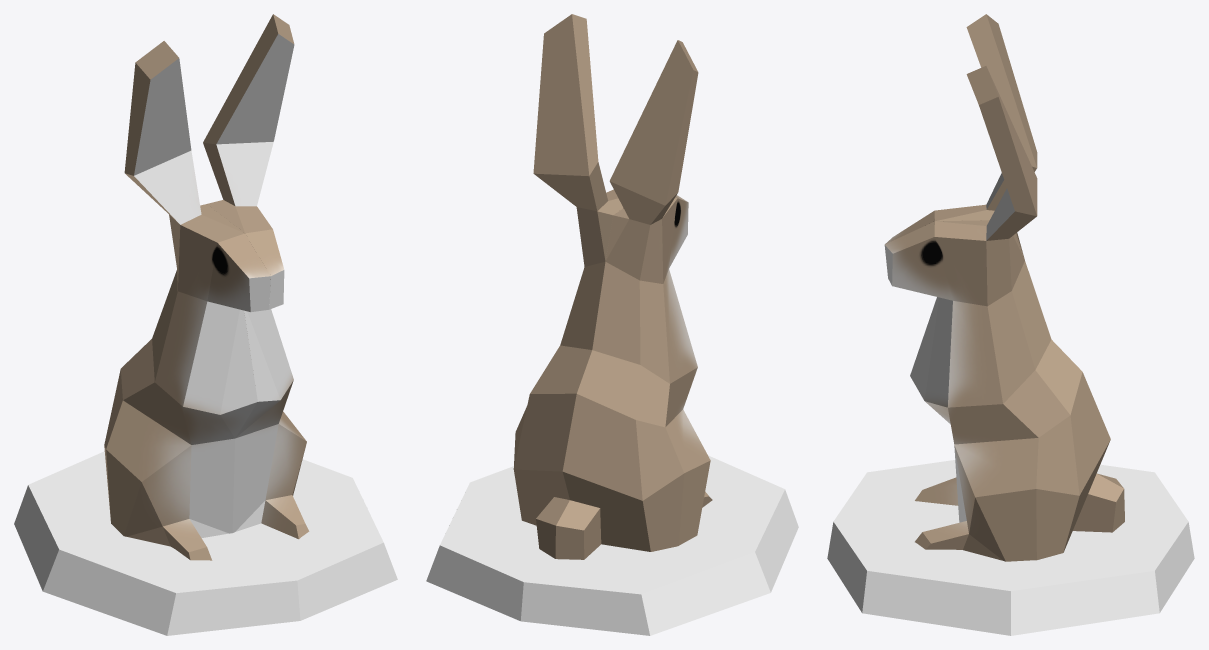
File: Asset_Prey_Bunny.fbx
3 views of the same model, side by side, from view 1: azimuth 30°, elevation 25°; view 2: azimuth 150°, elevation 25°; view 3: azimuth 270°, elevation 25° (orthographic). The views are drawn at different scales.
Visible parts, largest first — view 1: Polysurface_Food_Bunny, Food_bunny_Stand; view 2: Polysurface_Food_Bunny, Food_bunny_Stand; view 3: Polysurface_Food_Bunny, Food_bunny_Stand.
Boxes of the visible parts, bbox=[...] form: Polysurface_Food_Bunny: bbox=[104, 14, 309, 560]; Food_bunny_Stand: bbox=[14, 451, 397, 635]; Polysurface_Food_Bunny: bbox=[513, 14, 712, 559]; Food_bunny_Stand: bbox=[426, 455, 798, 635]; Polysurface_Food_Bunny: bbox=[884, 14, 1124, 561]; Food_bunny_Stand: bbox=[827, 460, 1194, 635].
Bounding box in the file's own units: 14.26 × 22.29 × 14.3.
Materials: 1 (1 with a texture image).
